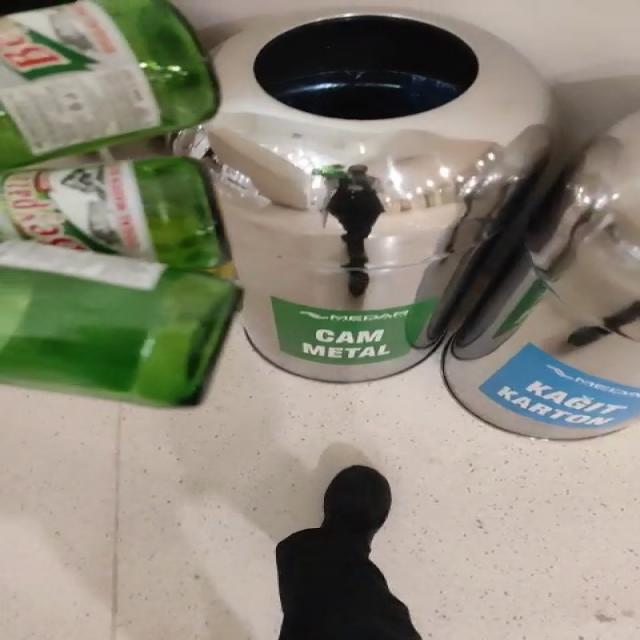bin: (204, 8, 551, 382)
glass: (0, 0, 239, 406)
